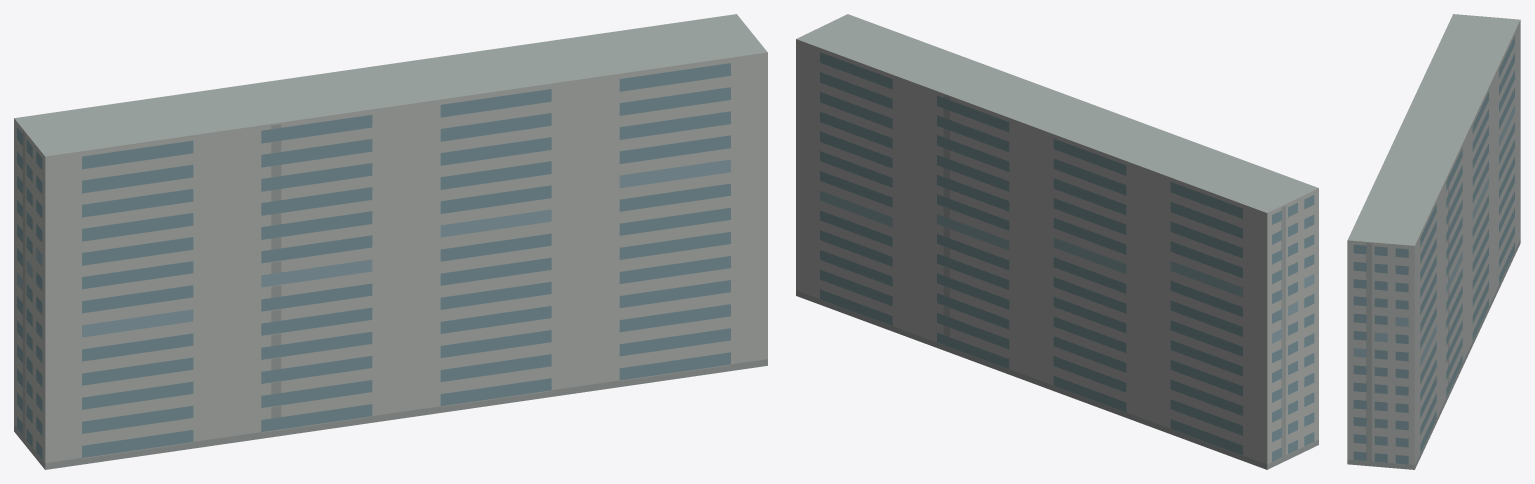
File: residential-3e9d35df-c4e0-49ca-989a-95c64fbf9975.glb
3 renders of one model, left to right at view 1: azimuth 30°, elevation 25°; view 2: azimuth 150°, elevation 25°; view 3: azimuth 270°, elevation 25°, orthographic. The views are drawn at different scales.
Visible parts, largest first — view 1: residential-3e9d35df-c4e0-49ca-989a-95c64fbf9975.tmp; view 2: residential-3e9d35df-c4e0-49ca-989a-95c64fbf9975.tmp; view 3: residential-3e9d35df-c4e0-49ca-989a-95c64fbf9975.tmp.
Part boxes in pixels (box(x1,y1,x2,y2)): residential-3e9d35df-c4e0-49ca-989a-95c64fbf9975.tmp: box(14, 14, 767, 469); residential-3e9d35df-c4e0-49ca-989a-95c64fbf9975.tmp: box(796, 14, 1318, 469); residential-3e9d35df-c4e0-49ca-989a-95c64fbf9975.tmp: box(1347, 14, 1520, 469).
Bounding box in the file's own units: 88.03 × 39.65 × 27.76.
